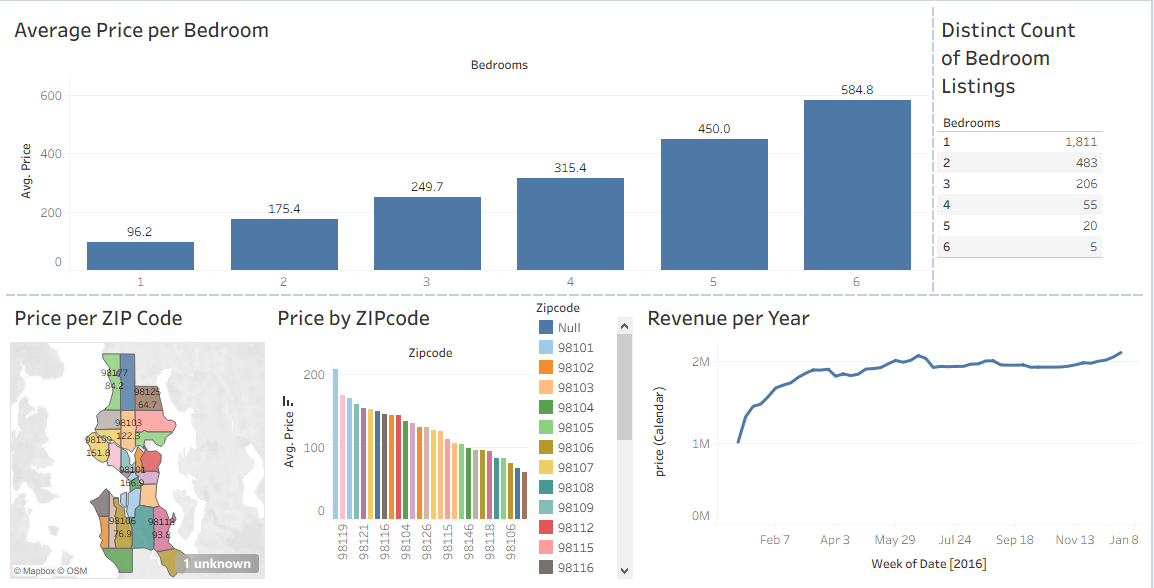

What the dashboard file says about the page in this screenshot:
{"tool":"tableau","page":{"name":"Dashboard 1","canvas":[1000,1000],"units":"permille","ordinal":0},"visuals":[{"type":"worksheet","title":"Sheet 4","mark":"Automatic","rows":["price"],"cols":["bedrooms"],"box":[6.9,13.5,802.6,486.5]},{"type":"worksheet","title":"Sheet 5","mark":"Automatic","rows":["bedrooms"],"box":[809.5,13.5,183.6,486.5]},{"type":"worksheet","title":"Sheet 2","mark":"Multipolygon","box":[6.9,500,227.7,486.5]},{"type":"worksheet","title":"Sheet 1","mark":"Automatic","rows":["price"],"cols":["zipcode"],"box":[234.6,500,227.7,486.5]},{"type":"legend","title":"Sheet 1","param":"[federated.114g63x1w66yk910nuebx0xnebri].[none:zipcode:ok]","box":[462.3,500,92.6,486.5]},{"type":"worksheet","title":"Sheet 3","mark":"Automatic","rows":["price (Calendar)"],"cols":["date"],"box":[555,500,438.1,486.5]}]}

Visuals, with their boxes on the dashboard's canvas, which has no fixed pixel size, in thousandths of its width and height (x1, y1, x2, y2). These are canvas units, not pixel positions in the 1154x588 screenshot, which may show the page scaled, cropped or inside an application window:
"Sheet 4" worksheet: rect(7, 14, 810, 500)
"Sheet 5" worksheet: rect(810, 14, 993, 500)
"Sheet 2" worksheet (Multipolygon marks): rect(7, 500, 235, 986)
"Sheet 1" worksheet: rect(235, 500, 462, 986)
"Sheet 1" legend: rect(462, 500, 555, 986)
"Sheet 3" worksheet: rect(555, 500, 993, 986)
